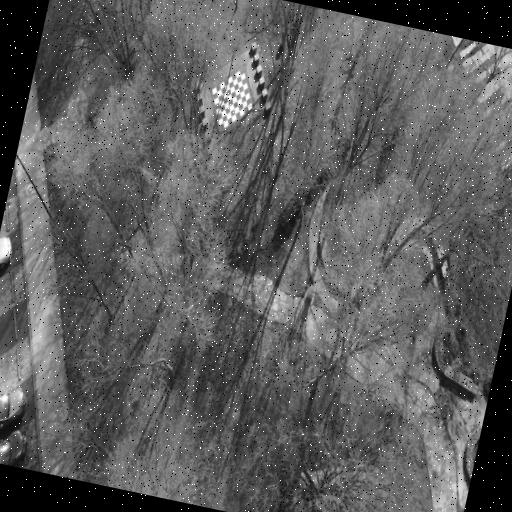person: (0, 388, 26, 429), (0, 429, 27, 465), (0, 237, 12, 269)
